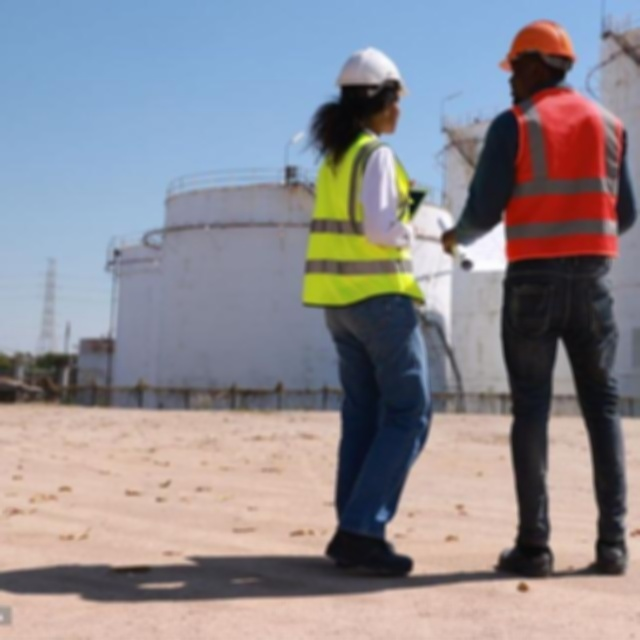Con_Chaleco: (301, 139, 430, 316), (504, 86, 624, 267)
